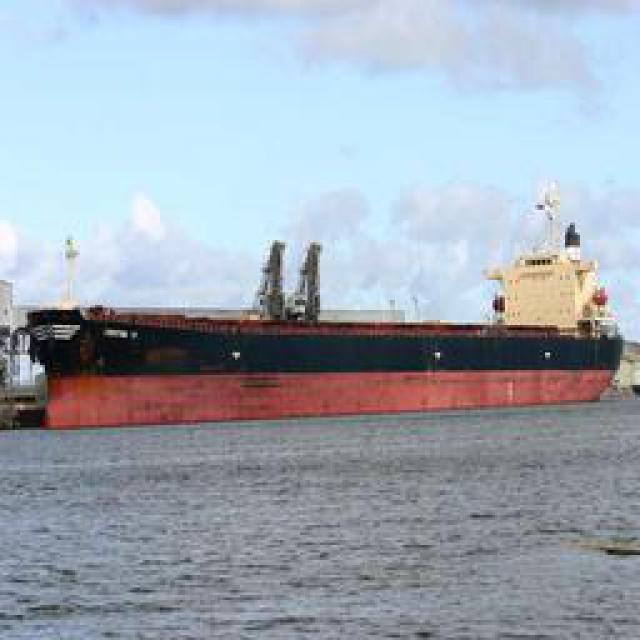Ship: (5, 196, 618, 406)
